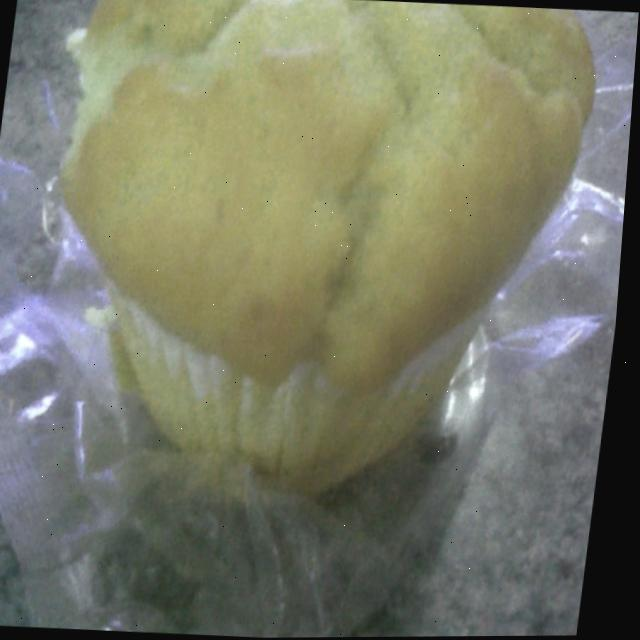炸货点心: (2, 0, 625, 528)
面包点心: (2, 0, 625, 528)
